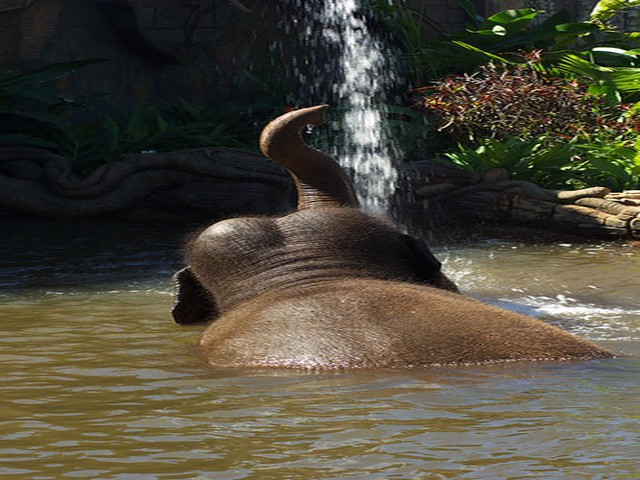Elephant: (163, 101, 624, 367)
